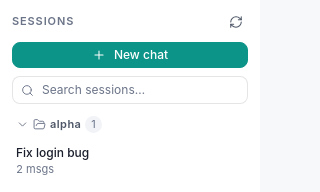
Test: Sidebar › toggles an expanded project group collapsed and back
Check: the text "Fix login bug" is shown, box [16, 144, 89, 160]
Click the button "alpha 1" at (130, 124), box [8, 112, 252, 136]
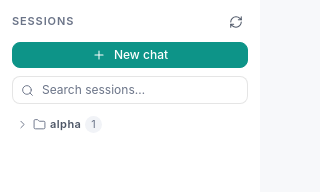
Check: the button "Fix login bug" is gone
Click the button "alpha 1" at (130, 124), box [8, 112, 252, 136]
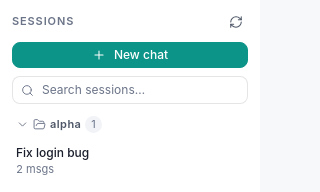
Check: the text "Fix login bug" is shown, box [16, 144, 89, 160]
